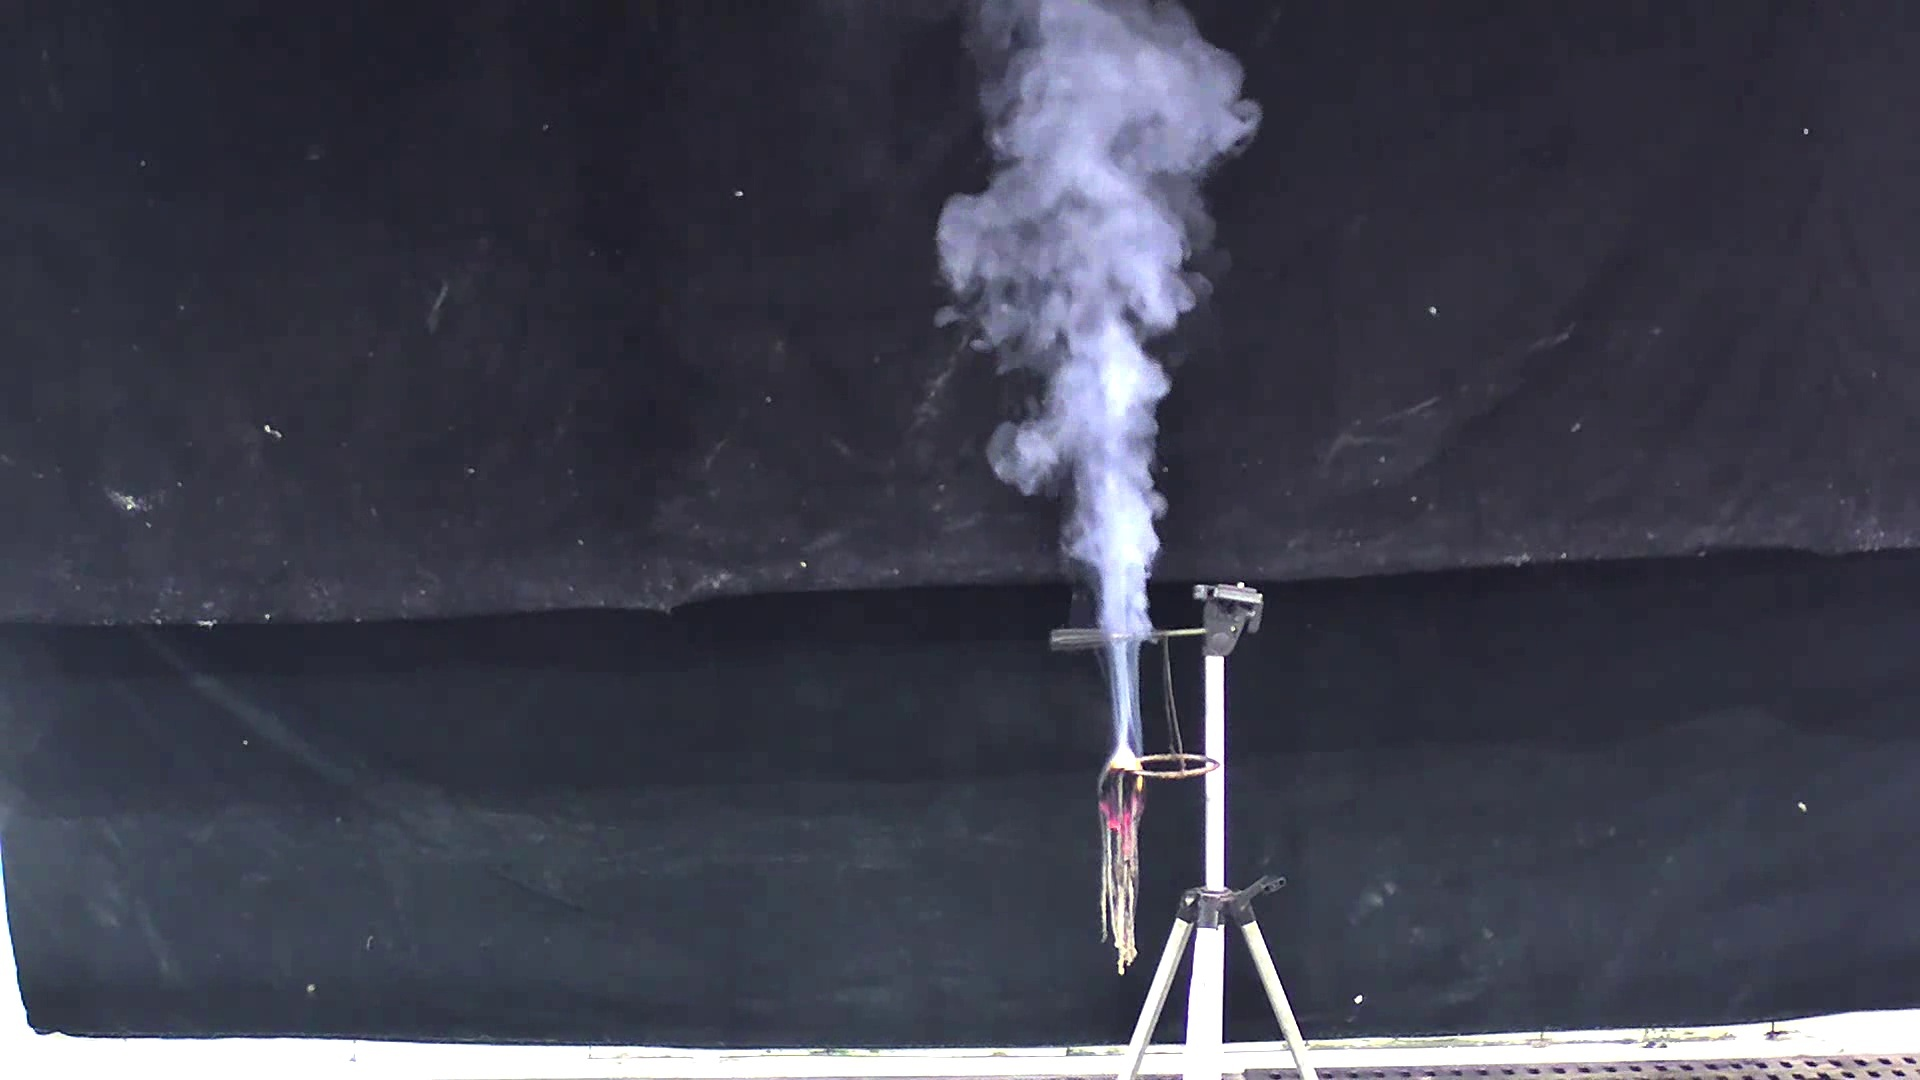smoke: (928, 11, 1203, 723)
